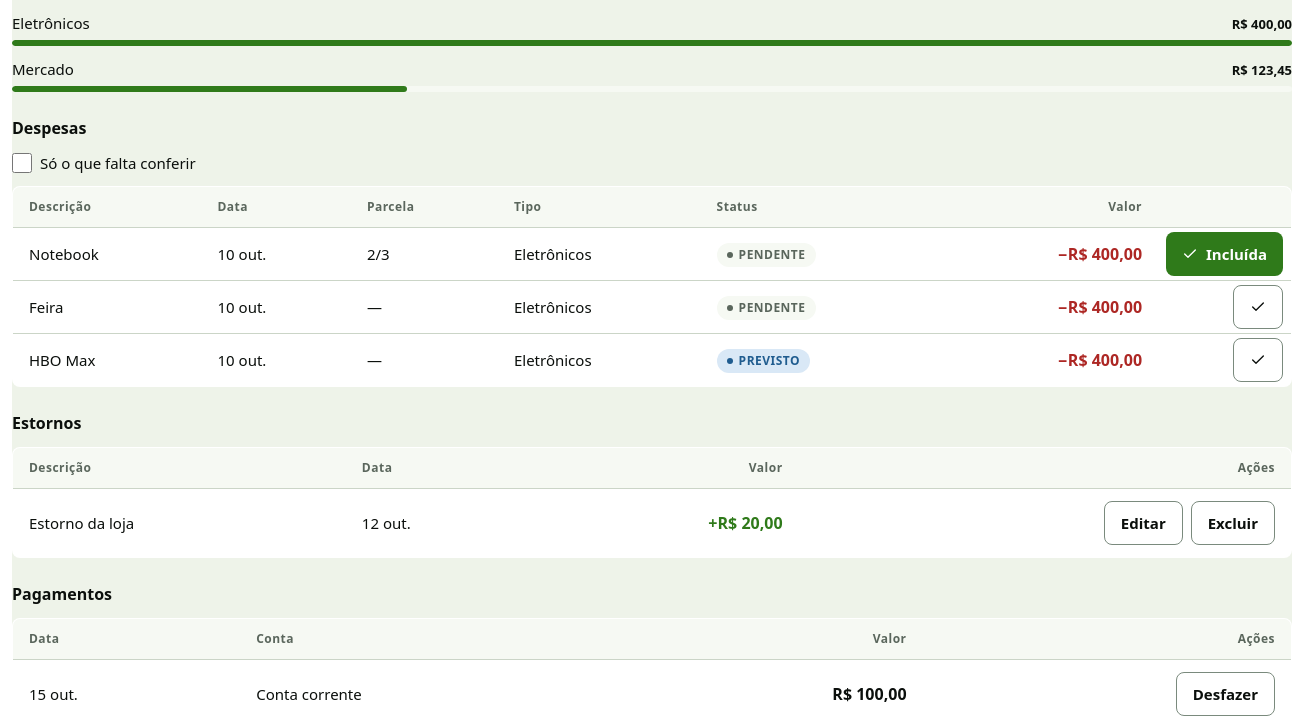
Scenario: conferência da fatura (spec 0020) › alerts and reloads on STATEMENT_CLOSED
(page scrolled)
Click the button named "Marcar como incluída: HBO Max": (1258, 360) [1233,338,1283,382]
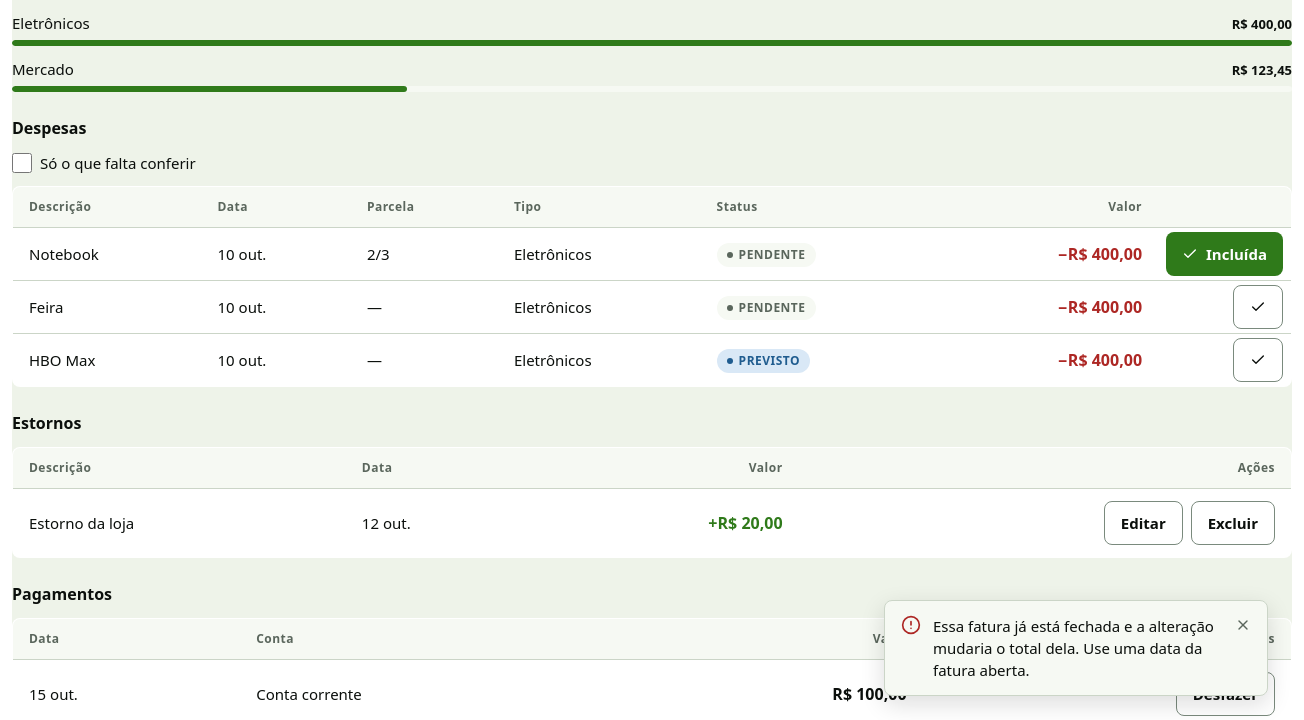
Now the text "Essa fatura já está fechada e a alteração mudaria o total dela. Use uma data da fatura aberta." is shown, box [933,616,1214,680]
